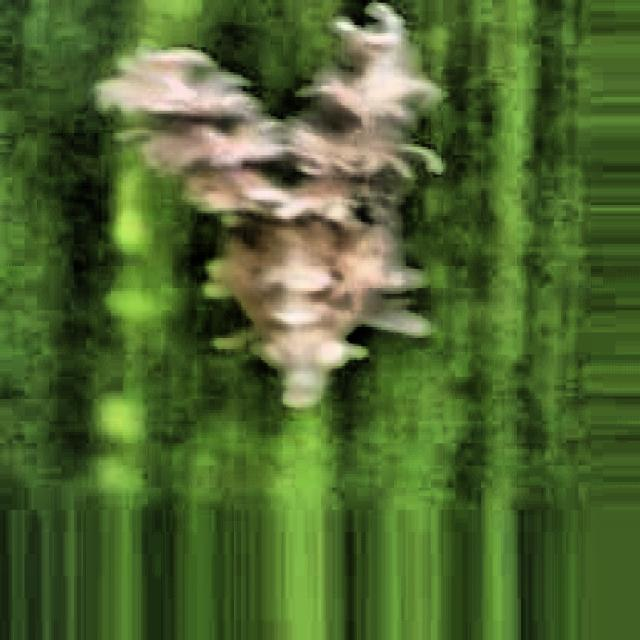Pyrilla-perpusilla: (78, 3, 450, 437)
